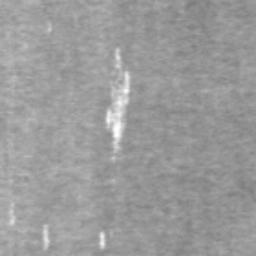White rust: (106, 70, 131, 155), (42, 223, 52, 250), (10, 202, 17, 227), (98, 231, 106, 250), (116, 46, 121, 62)
